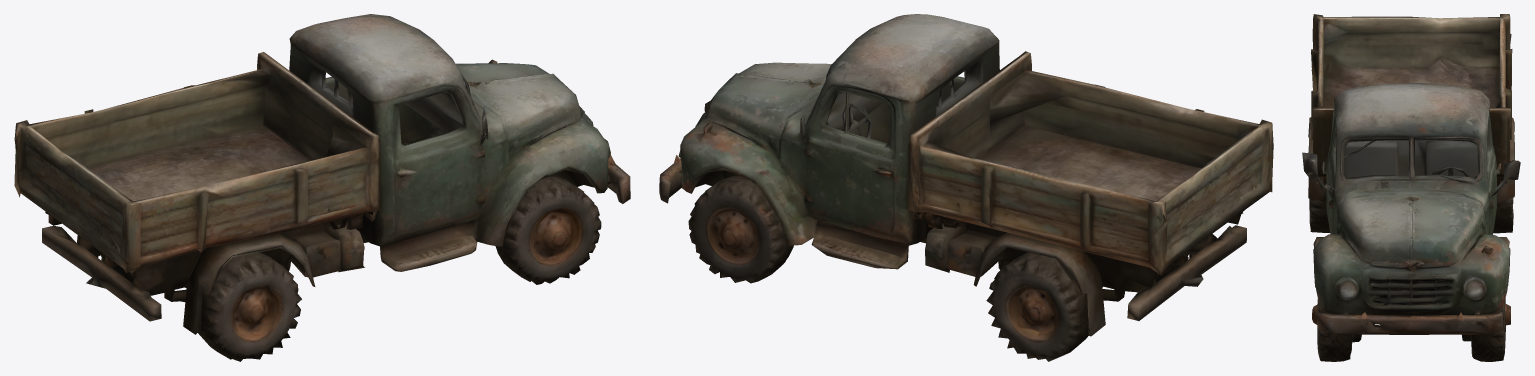
The model's file is ul_truck.glb.
The picture shows the model from 3 angles, left to right: view 1: azimuth 30°, elevation 25°; view 2: azimuth 150°, elevation 25°; view 3: azimuth 270°, elevation 25°; orthographic projection. The views are drawn at different scales.
Visible parts, largest first — view 1: tripo_node_74323637-f987-4a57-b2b2-19864dde91ea; view 2: tripo_node_74323637-f987-4a57-b2b2-19864dde91ea; view 3: tripo_node_74323637-f987-4a57-b2b2-19864dde91ea.
Boxes of the visible parts, bbox=[...] form: tripo_node_74323637-f987-4a57-b2b2-19864dde91ea: bbox=[14, 14, 630, 361]; tripo_node_74323637-f987-4a57-b2b2-19864dde91ea: bbox=[659, 14, 1273, 361]; tripo_node_74323637-f987-4a57-b2b2-19864dde91ea: bbox=[1302, 14, 1520, 361].
Bounding box in the file's own units: 1 × 0.4382 × 0.4218.
1 material, 1 textured.
